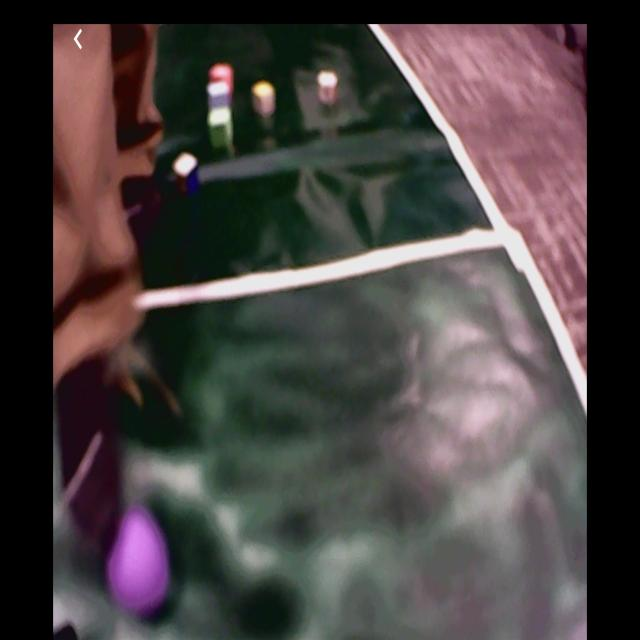ball: (105, 510, 170, 612)
